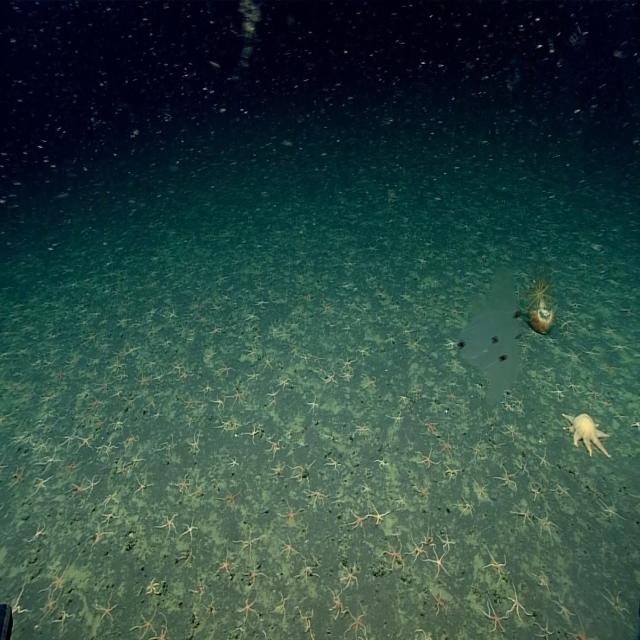brittle-stars: (4, 582, 30, 624), (482, 601, 507, 634), (508, 583, 530, 620), (484, 549, 508, 581), (96, 592, 119, 625), (236, 528, 260, 559), (344, 607, 366, 640), (239, 417, 263, 447), (45, 564, 69, 594), (134, 610, 158, 640), (271, 588, 291, 623), (294, 606, 315, 637), (279, 500, 301, 528), (384, 541, 404, 571), (428, 550, 448, 579), (214, 550, 233, 580), (567, 621, 597, 640), (536, 511, 557, 537), (554, 594, 575, 620), (340, 563, 360, 590), (237, 596, 260, 619), (244, 561, 265, 586), (598, 497, 620, 520), (292, 461, 314, 484), (38, 448, 61, 470), (158, 513, 178, 538), (298, 558, 318, 583), (367, 504, 389, 526), (27, 521, 48, 544), (417, 446, 437, 470), (219, 487, 239, 511), (472, 480, 491, 505), (40, 592, 59, 617), (328, 587, 344, 616), (496, 466, 517, 488), (89, 525, 110, 547), (514, 505, 534, 528), (56, 605, 74, 630), (278, 535, 297, 558), (455, 494, 474, 517), (409, 536, 427, 560), (413, 478, 431, 502), (308, 488, 329, 508), (32, 475, 52, 496), (537, 569, 553, 595), (134, 474, 152, 497), (186, 581, 207, 600), (439, 436, 457, 458), (534, 449, 552, 471), (433, 592, 449, 616), (152, 621, 172, 640), (536, 619, 554, 640), (440, 530, 457, 552), (178, 548, 195, 570), (502, 420, 520, 440), (349, 510, 367, 530), (161, 438, 178, 459), (9, 467, 25, 489), (99, 439, 117, 458), (372, 453, 390, 472), (230, 388, 247, 408), (175, 475, 191, 496), (192, 483, 208, 504), (182, 518, 197, 540), (352, 422, 370, 440), (102, 508, 119, 527), (102, 489, 119, 508), (124, 430, 140, 450), (147, 576, 163, 596), (565, 347, 582, 365), (63, 458, 80, 476), (267, 437, 282, 457), (331, 490, 346, 510), (270, 461, 287, 478), (566, 378, 582, 396), (32, 435, 48, 453), (421, 419, 437, 437), (70, 480, 86, 498), (87, 476, 102, 495), (199, 382, 214, 401), (394, 492, 408, 512), (151, 368, 165, 388), (97, 376, 113, 393), (361, 374, 376, 392), (518, 336, 533, 354), (611, 342, 630, 356), (590, 483, 604, 502), (414, 628, 436, 640), (187, 434, 200, 454), (326, 456, 342, 472), (556, 484, 572, 500), (340, 353, 356, 369), (445, 464, 461, 480), (583, 345, 600, 360), (181, 393, 196, 410), (359, 424, 376, 439), (62, 432, 76, 450), (472, 441, 484, 462), (307, 391, 318, 413), (217, 360, 232, 376), (389, 412, 404, 428), (78, 435, 92, 452), (112, 415, 126, 432), (137, 372, 151, 389), (216, 416, 230, 433), (530, 484, 544, 501), (265, 358, 278, 376), (209, 322, 224, 337), (500, 398, 515, 413), (587, 386, 603, 400), (130, 454, 144, 470), (212, 394, 225, 411), (228, 416, 241, 433), (264, 352, 276, 370), (448, 386, 460, 404), (322, 371, 336, 386), (246, 369, 260, 384), (552, 384, 566, 399), (278, 376, 292, 391), (410, 337, 424, 352), (91, 394, 105, 409), (177, 366, 190, 382), (127, 342, 140, 358), (514, 392, 526, 409), (115, 314, 129, 328), (443, 338, 456, 353), (271, 320, 283, 336), (227, 456, 240, 470), (340, 370, 354, 383), (246, 311, 260, 324), (602, 324, 616, 337), (245, 346, 258, 360), (288, 318, 300, 331), (115, 462, 126, 476), (314, 352, 325, 366), (361, 482, 371, 497), (254, 295, 266, 307), (352, 314, 363, 326), (632, 416, 640, 432)
